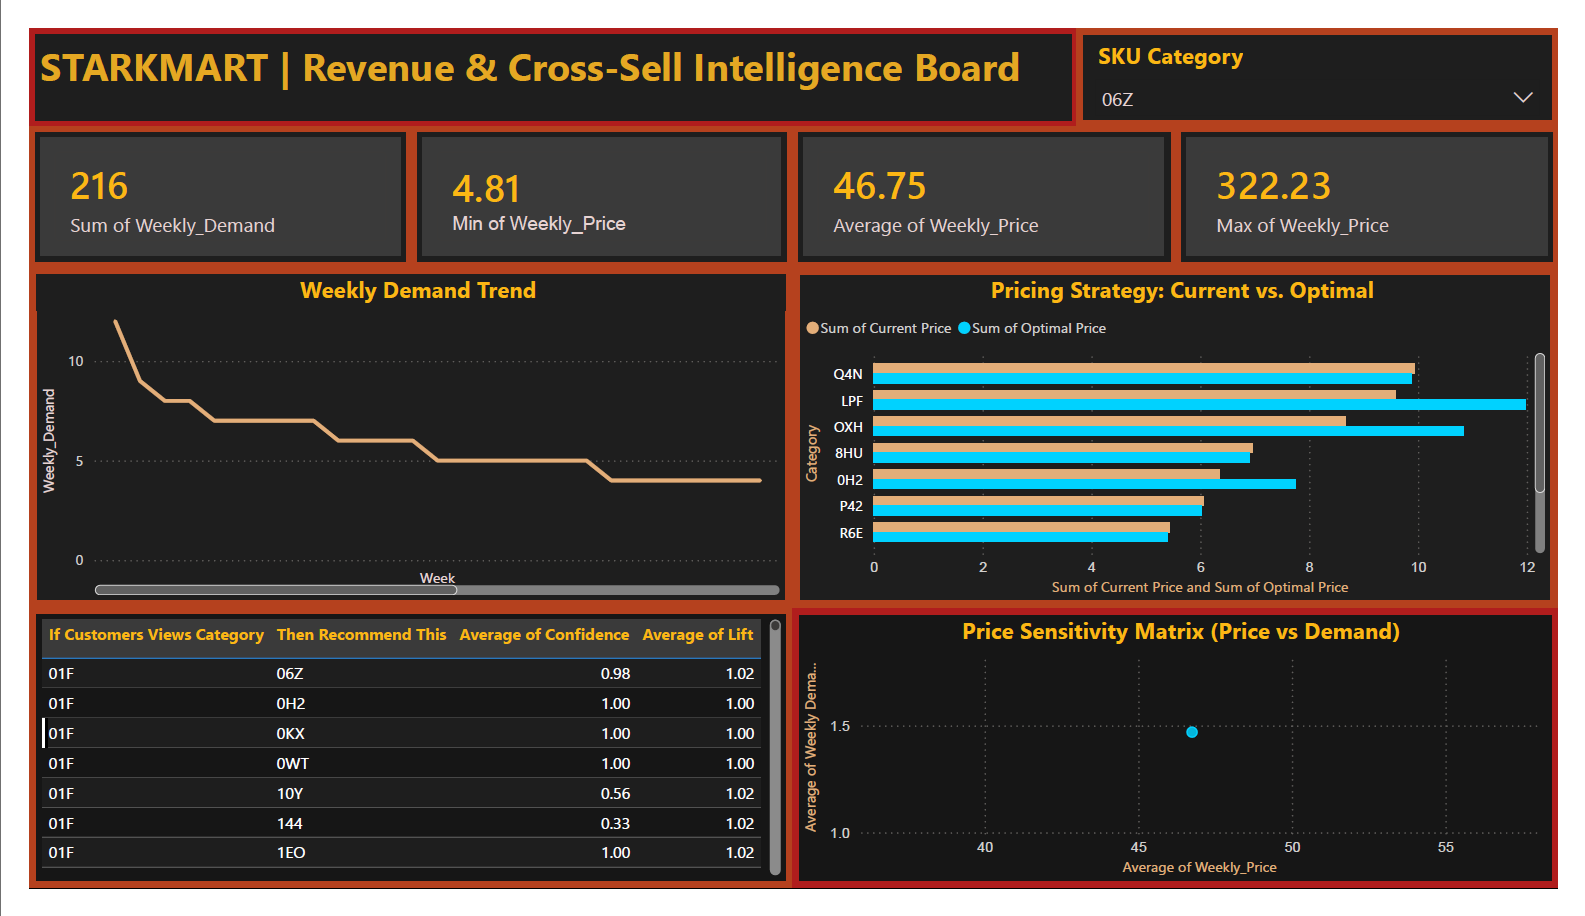

What the dashboard file says about the page in this screenshot:
{"tool":"powerbi","page":{"name":"Page 1","canvas":[1280,720],"ordinal":0},"visuals":[{"type":"textbox","box":[0,0,876.6,81.7],"z":0},{"type":"slicer","fields":{"Values":["cleaned_dataset.SKU_Category"]},"box":[876.6,0,403.7,81.7],"z":1000},{"type":"cardVisual","fields":{"Data":["Sum(cleaned_dataset.Weekly_Demand)"]},"box":[0,81.7,320.5,117.8],"z":2000},{"type":"cardVisual","fields":{"Data":["Avg(cleaned_dataset.Weekly_Price)"]},"box":[639.4,81.7,320.5,117.8],"z":3000},{"type":"cardVisual","fields":{"Data":["Max(cleaned_dataset.Weekly_Price)"]},"box":[959.8,81.7,320.5,117.8],"z":4000},{"type":"cardVisual","fields":{"Data":["Min(cleaned_dataset.Weekly_Price)"]},"box":[320.5,81.7,318.9,117.8],"z":5000},{"type":"lineChart","title":"Weekly Demand Trend","fields":{"Category":["cleaned_dataset.Year_Week"],"Y":["Sum(cleaned_dataset.Weekly_Demand)"]},"box":[0,199.5,639.4,285.9],"z":5001},{"type":"clusteredBarChart","title":"Pricing Strategy: Current vs. Optimal","fields":{"Category":["starkmart_pricing_optimization.Category"],"Y":["Sum(starkmart_pricing_optimization.Current Price)","Sum(starkmart_pricing_optimization.Optimal Price)"]},"box":[639.4,199.5,640.9,285.9],"z":5002},{"type":"tableEx","fields":{"Values":["starkmart_recommendation_rules.antecedents","starkmart_recommendation_rules.consequents","Avg(starkmart_recommendation_rules.confidence)","Avg(starkmart_recommendation_rules.lift)"]},"box":[0,485.4,639.4,234.1],"z":5003},{"type":"scatterChart","title":"Price Sensitivity Matrix (Price vs Demand)","fields":{"X":["Avg(cleaned_dataset.Weekly_Price)"],"Y":["Avg(cleaned_dataset.Weekly_Demand)"],"Category":["cleaned_dataset.SKU_Category"]},"box":[639,486,641,233],"z":5004}]}

Visuals, with their boxes in screenshot pixels (x1, y1, x2, y2), scaled from the page's 1280x720 canvas onto the 1585x916 screenshot:
textbox: region(0, 0, 1085, 104)
slicer - cleaned_dataset.SKU_Category: region(1085, 0, 1584, 104)
cardVisual - Sum(cleaned_dataset.Weekly_Demand): region(0, 104, 397, 254)
cardVisual - Avg(cleaned_dataset.Weekly_Price): region(792, 104, 1189, 254)
cardVisual - Max(cleaned_dataset.Weekly_Price): region(1189, 104, 1584, 254)
cardVisual - Min(cleaned_dataset.Weekly_Price): region(397, 104, 792, 254)
"Weekly Demand Trend" lineChart: region(0, 254, 792, 618)
"Pricing Strategy: Current vs. Optimal" clusteredBarChart: region(792, 254, 1584, 618)
tableEx - starkmart_recommendation_rules.antecedents x starkmart_recommendation_rules.consequents: region(0, 618, 792, 915)
"Price Sensitivity Matrix (Price vs Demand)" scatterChart: region(791, 618, 1584, 915)
